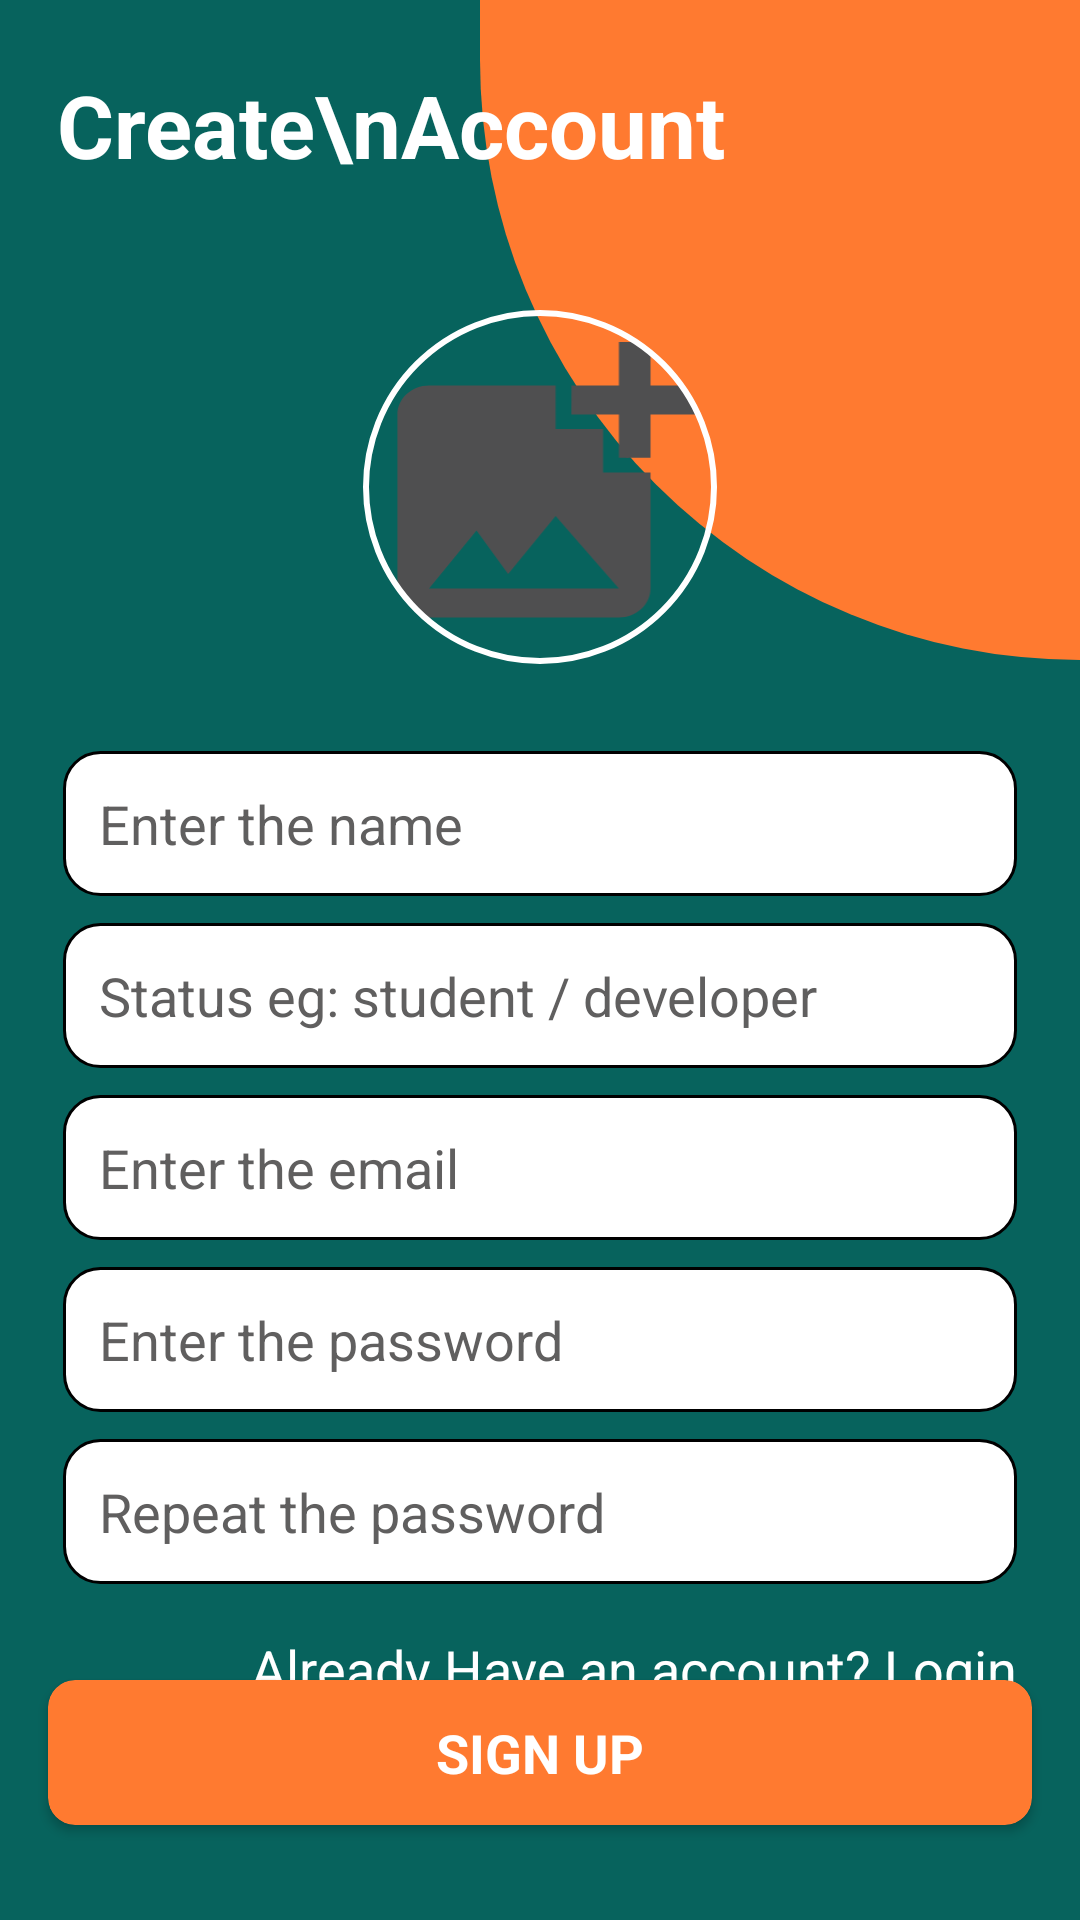

Icons on this 1080w x 1920h Android screen, each with the point to tap as [x,y]:
add photo: [541,485]
